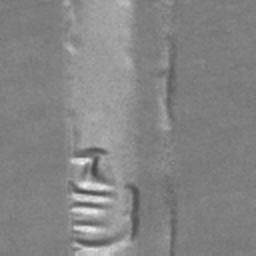Slag inclusion: (64, 146, 142, 256), (164, 36, 178, 122), (163, 177, 178, 256)
